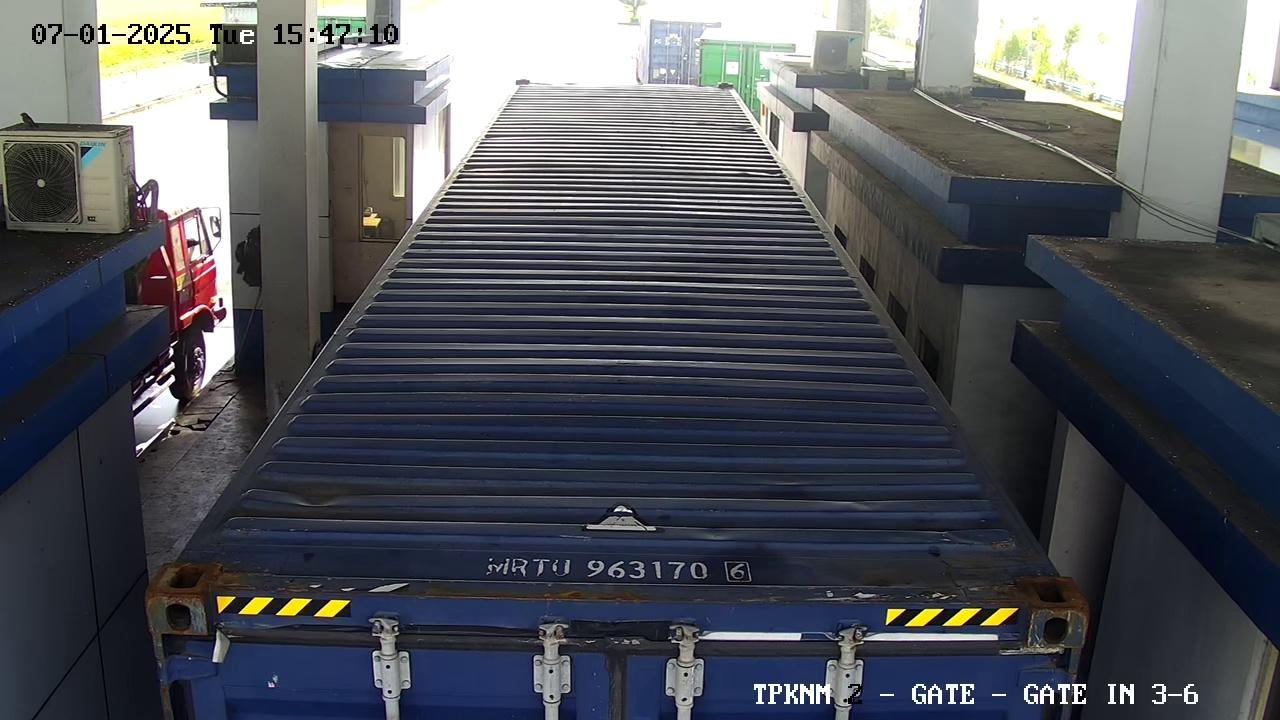Container_ID: (467, 547, 765, 599)
